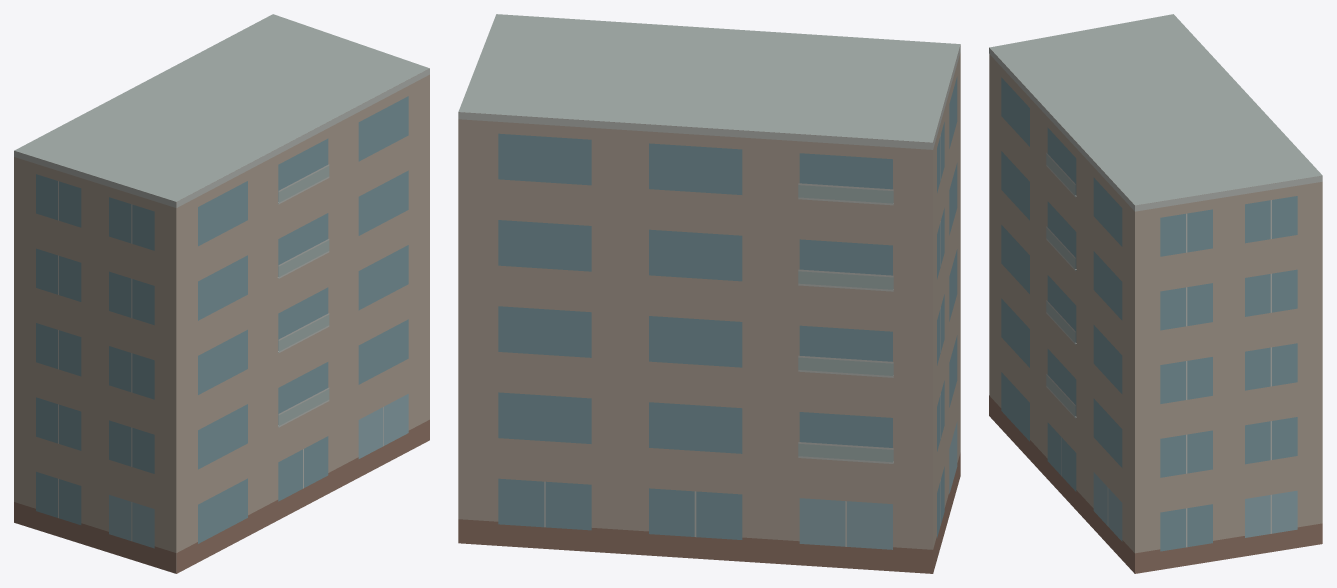
The model's file is survey-upis-32850313.glb.
The picture shows the model from 3 angles, left to right: view 1: azimuth 30°, elevation 25°; view 2: azimuth 150°, elevation 25°; view 3: azimuth 270°, elevation 25°; orthographic projection. The views are drawn at different scales.
Visible parts, largest first — view 1: survey-upis-32850313.tmp; view 2: survey-upis-32850313.tmp; view 3: survey-upis-32850313.tmp.
Part boxes in pixels (x1,y1,x2,y2): survey-upis-32850313.tmp: (14,14,429,573); survey-upis-32850313.tmp: (458,14,960,573); survey-upis-32850313.tmp: (989,14,1322,573).
Bounding box in the file's own units: 16.17 × 14.5 × 11.91.
